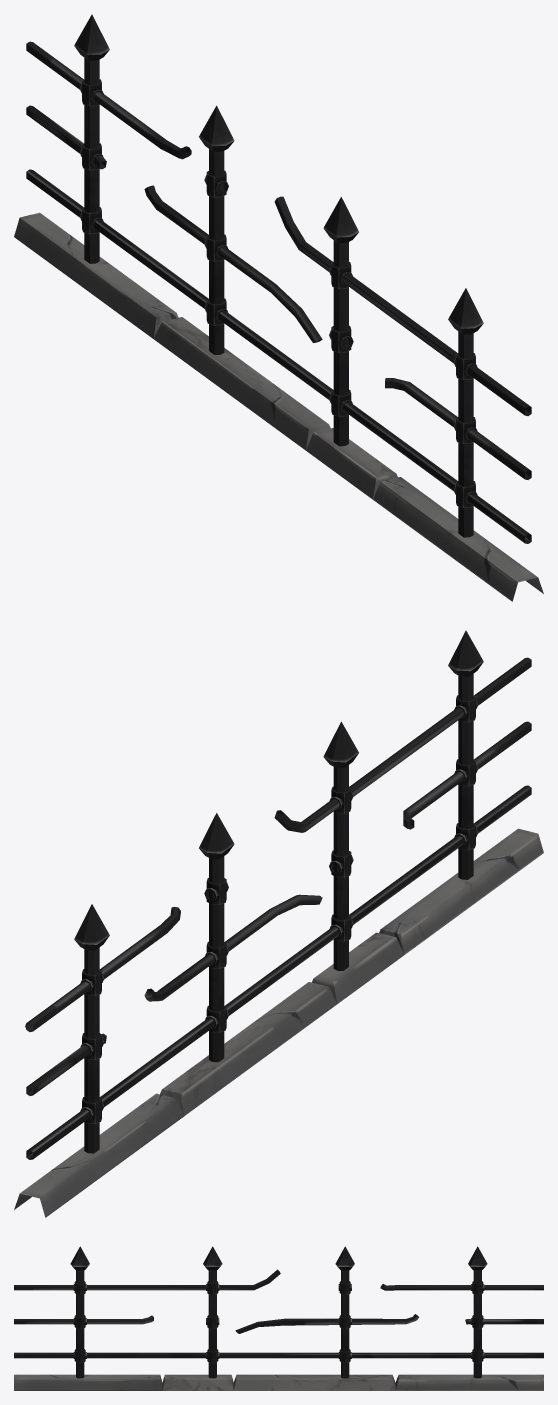
Rendered from SM_fence02.fbx.
The picture shows the model from 3 angles, top to bottom: view 1: azimuth 30°, elevation 25°; view 2: azimuth 150°, elevation 25°; view 3: azimuth 270°, elevation 25°; orthographic projection. The views are drawn at different scales.
Parts seen in each view (by area): view 1: SM_fence02; view 2: SM_fence02; view 3: SM_fence02.
Part boxes in pixels (box(x1,y1,x2,y2)): SM_fence02: box(14, 14, 543, 601); SM_fence02: box(14, 630, 543, 1217); SM_fence02: box(14, 1246, 543, 1390).
Size of the model in its own units: 0.2201 by 1.77 by 6.04.
